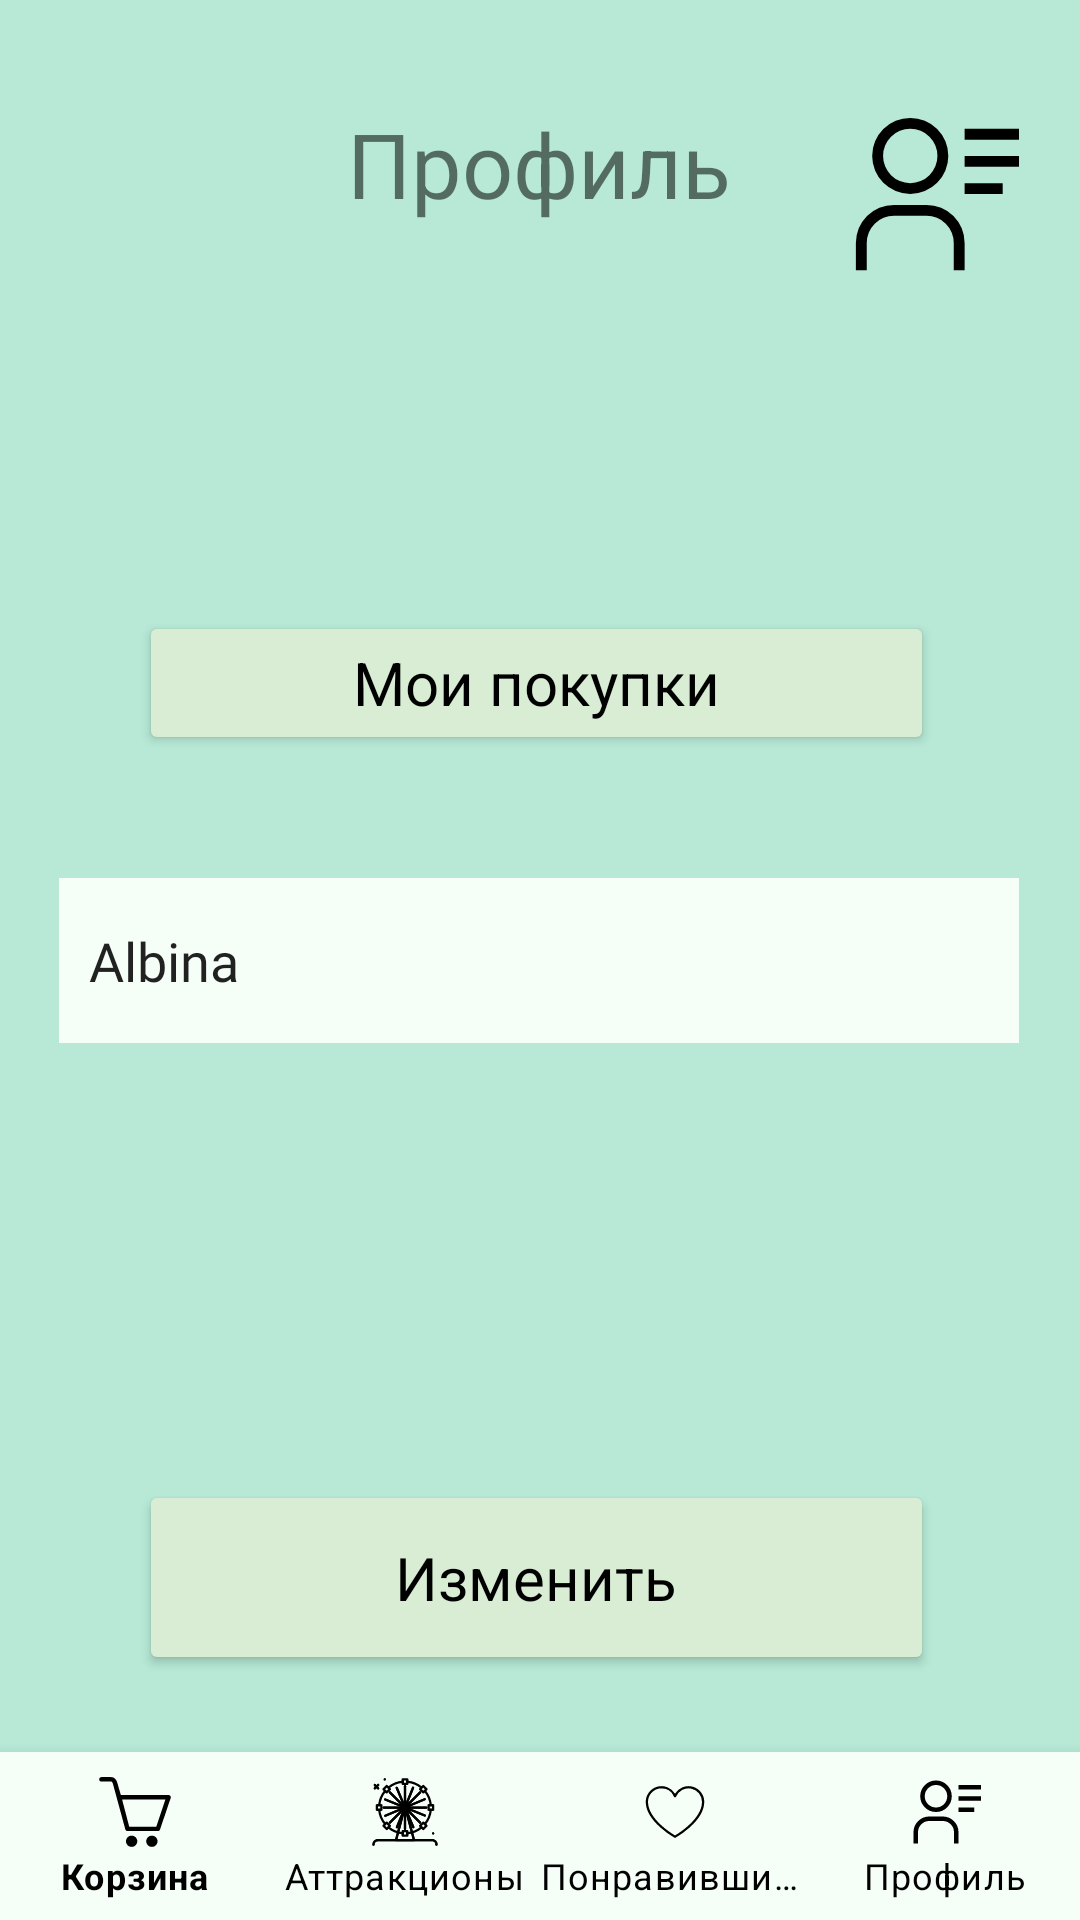

Named icons in this screenshot (1080 x 1920) and their bounding boxes, box(x1, y1, x2, y2):
user profile: box(855, 118, 1019, 271)
